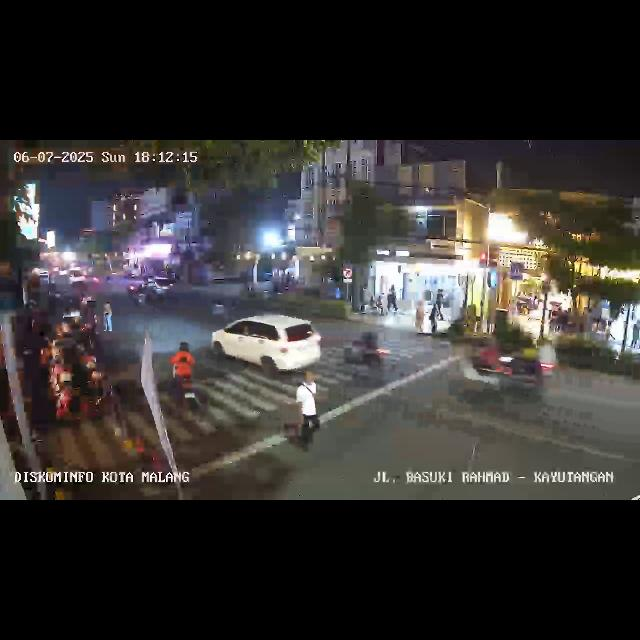car: (212, 314, 322, 378)
motorcycle: (332, 328, 394, 382), (170, 340, 198, 414), (130, 280, 148, 308)
person: (291, 369, 321, 449), (102, 301, 114, 333), (414, 298, 424, 334), (428, 300, 438, 334), (438, 292, 448, 326), (388, 285, 398, 313), (632, 320, 640, 350), (605, 319, 615, 341)
